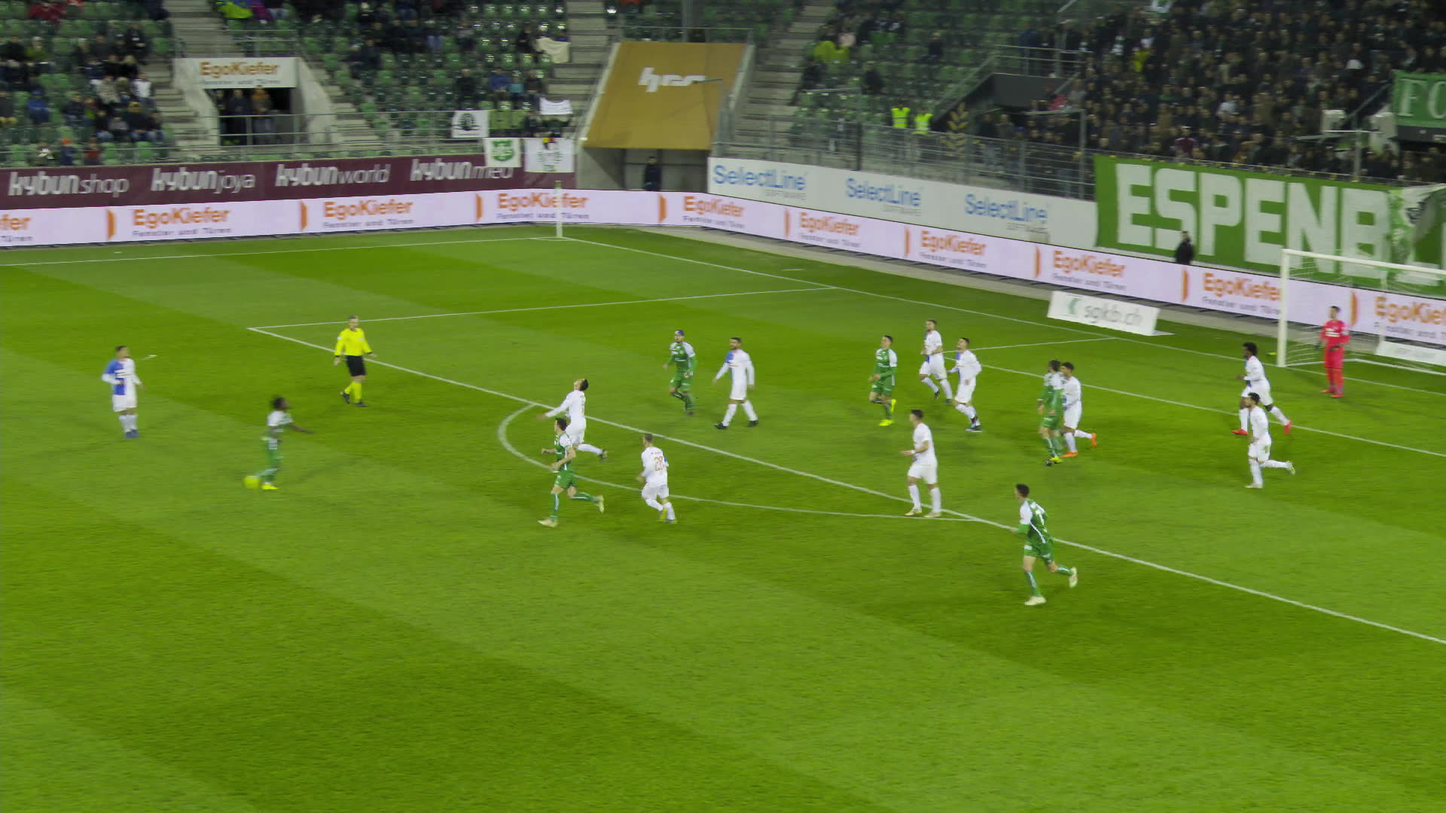player: (996, 483, 1067, 601), (223, 394, 295, 490), (540, 416, 599, 527), (889, 410, 941, 516), (1038, 358, 1088, 462), (545, 376, 604, 458), (940, 336, 990, 432), (859, 331, 908, 425), (1233, 391, 1276, 488), (709, 336, 752, 430), (1045, 361, 1089, 448), (98, 347, 139, 440), (633, 434, 674, 524), (660, 325, 701, 414), (911, 320, 951, 404), (1233, 345, 1268, 434), (1031, 360, 1063, 455), (1310, 304, 1342, 397)
referee: (327, 315, 369, 406)
